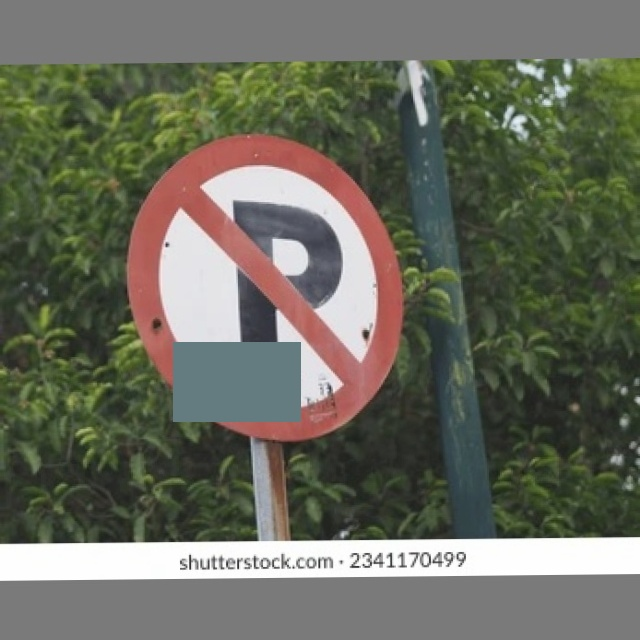No_Parking: (129, 128, 401, 439)
